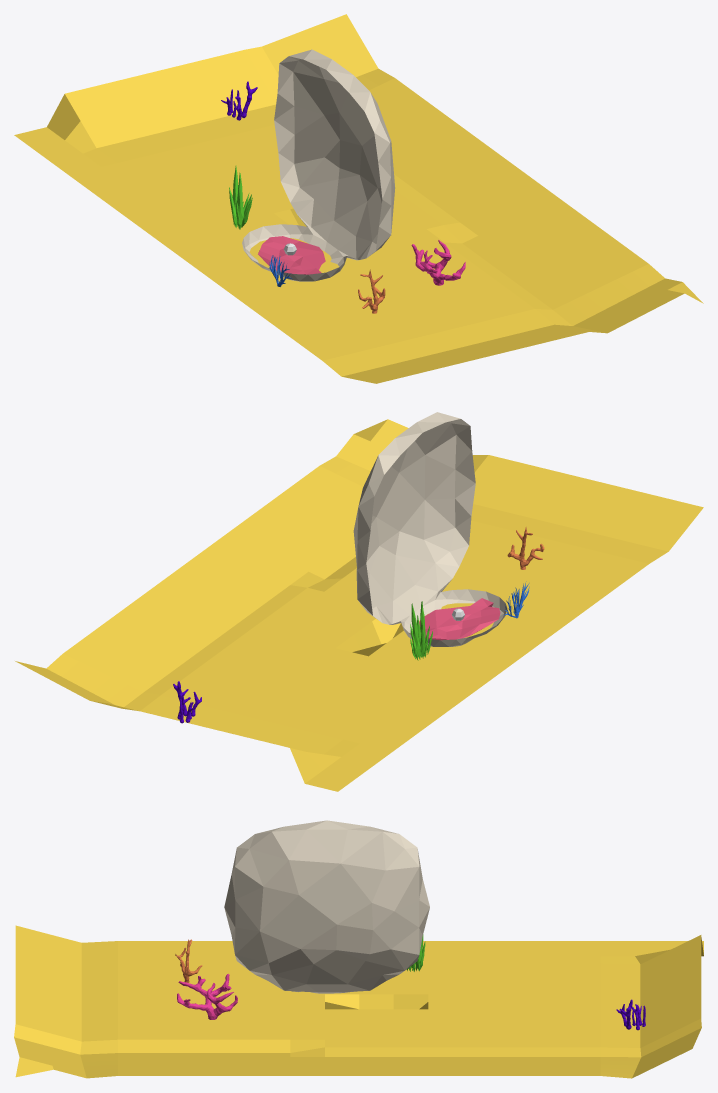
File: oyster.glb
The picture shows the model from 3 angles, top to bottom: view 1: azimuth 30°, elevation 25°; view 2: azimuth 150°, elevation 25°; view 3: azimuth 270°, elevation 25°; orthographic projection. The views are drawn at different scales.
Visible parts, largest first — view 1: Plane, Sphere, Coral.001, Coral.005; view 2: Plane, Sphere, Coral.005; view 3: Plane, Sphere, Coral.001, Coral.003.
Part boxes in pixels (x1=…): Plane: x1=14, y1=14, x2=703, y2=383; Sphere: x1=242, y1=49, x2=395, y2=281; Coral.001: x1=411, y1=240, x2=465, y2=285; Coral.005: x1=229, y1=165, x2=252, y2=229; Plane: x1=15, y1=419, x2=703, y2=791; Sphere: x1=353, y1=412, x2=507, y2=646; Coral.005: x1=410, y1=601, x2=432, y2=660; Plane: x1=14, y1=925, x2=703, y2=1078; Sphere: x1=224, y1=820, x2=429, y2=993; Coral.001: x1=177, y1=974, x2=237, y2=1019; Coral.003: x1=616, y1=999, x2=645, y2=1030.
Size of the model in its own units: 24.33 by 14.94 by 46.69.
